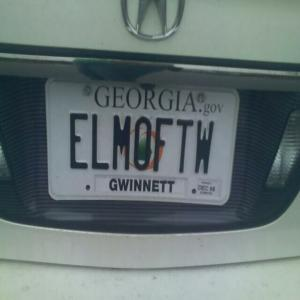Vehicle-registration-plate: (45, 78, 241, 208)
